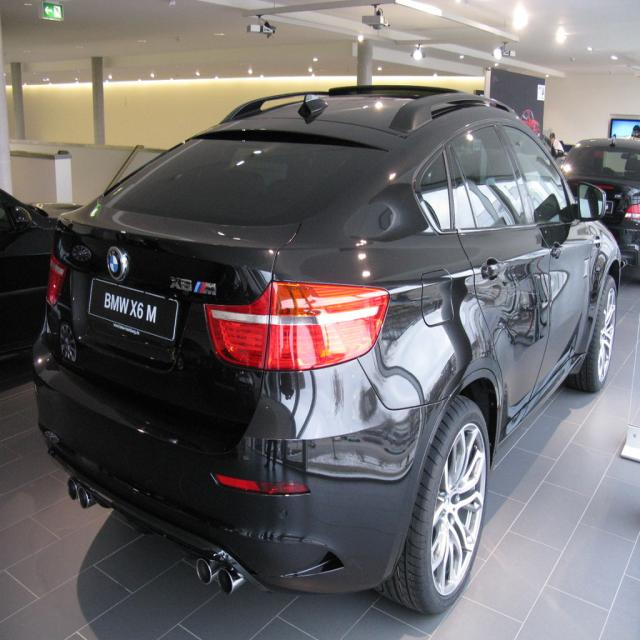car: (15, 66, 612, 618)
